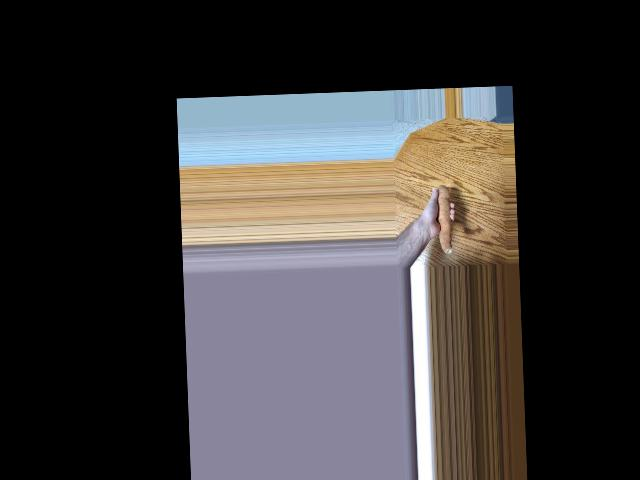sweet_potato: (429, 184, 453, 255)
